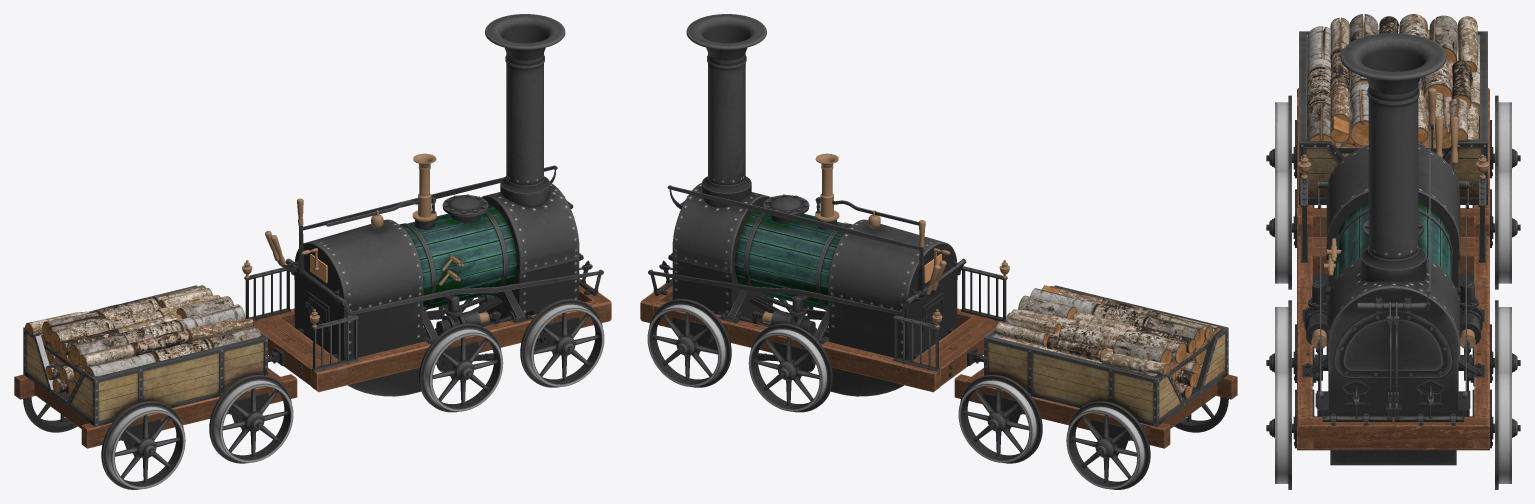
Rendered from Cherepanov.gltf.
The picture shows the model from 3 angles, left to right: view 1: azimuth 30°, elevation 25°; view 2: azimuth 150°, elevation 25°; view 3: azimuth 270°, elevation 25°; orthographic projection. The views are drawn at different scales.
Parts seen in each view (by area): view 1: CHEREPANOV_0; view 2: CHEREPANOV_0; view 3: CHEREPANOV_0.
Part boxes in pixels (bbox=[...]): CHEREPANOV_0: bbox=[14, 14, 611, 489]; CHEREPANOV_0: bbox=[640, 14, 1237, 489]; CHEREPANOV_0: bbox=[1266, 14, 1520, 489].
Size of the model in its own units: 0.5509 by 0.3233 by 0.1731.
3 materials, 3 textured.
